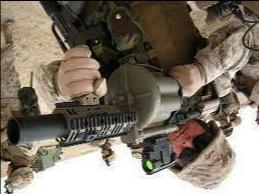gun: (7, 40, 221, 174)
